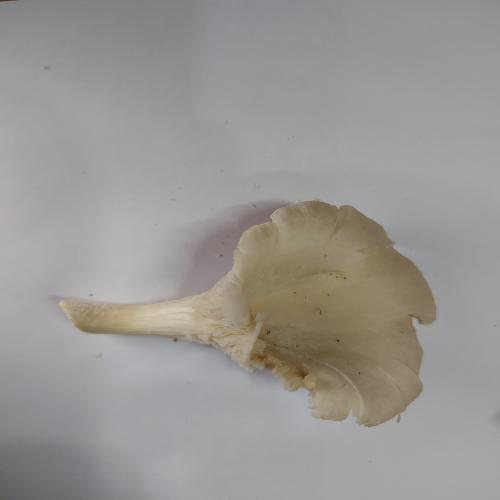Oyster Mushroom: (57, 198, 438, 428)
